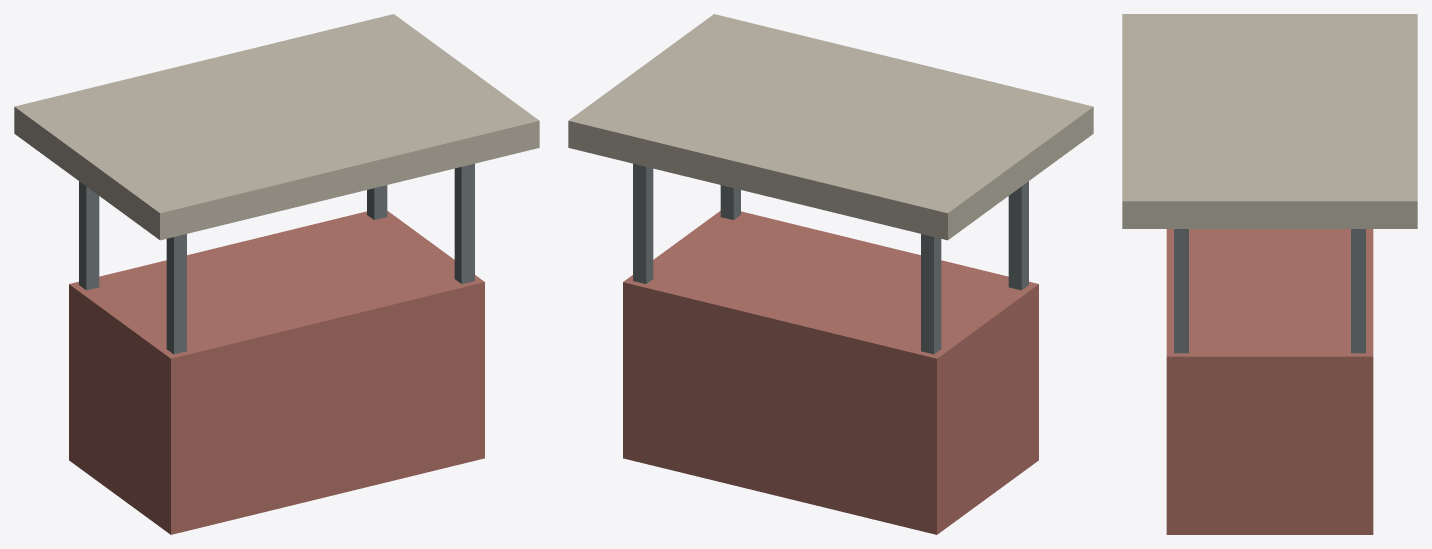
Rendered from iz2_district_market_canopy.glb.
The picture shows the model from 3 angles, left to right: view 1: azimuth 30°, elevation 25°; view 2: azimuth 150°, elevation 25°; view 3: azimuth 270°, elevation 25°; orthographic projection.
Parts seen in each view (by area): view 1: body; view 2: body; view 3: body.
Boxes of the visible parts, <box> form: body: <box>14,14,539,534</box>; body: <box>568,14,1093,534</box>; body: <box>1122,14,1417,534</box>.
Size of the model in its own units: 1.45 by 1.27 by 0.9675.
